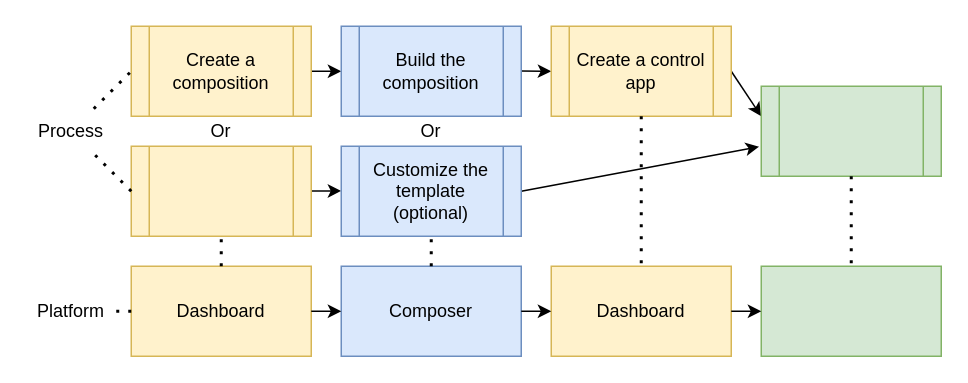
Some shapes in this 968 by 383 pixel diagram are drawn without their labels. Here are the shapes that lost their labels. From the top down, the centre of each, then its label:
At (850,130): "Update and control the app".
At (220,190): "Download a template".
At (850,310): "API, Studio, UNO".
